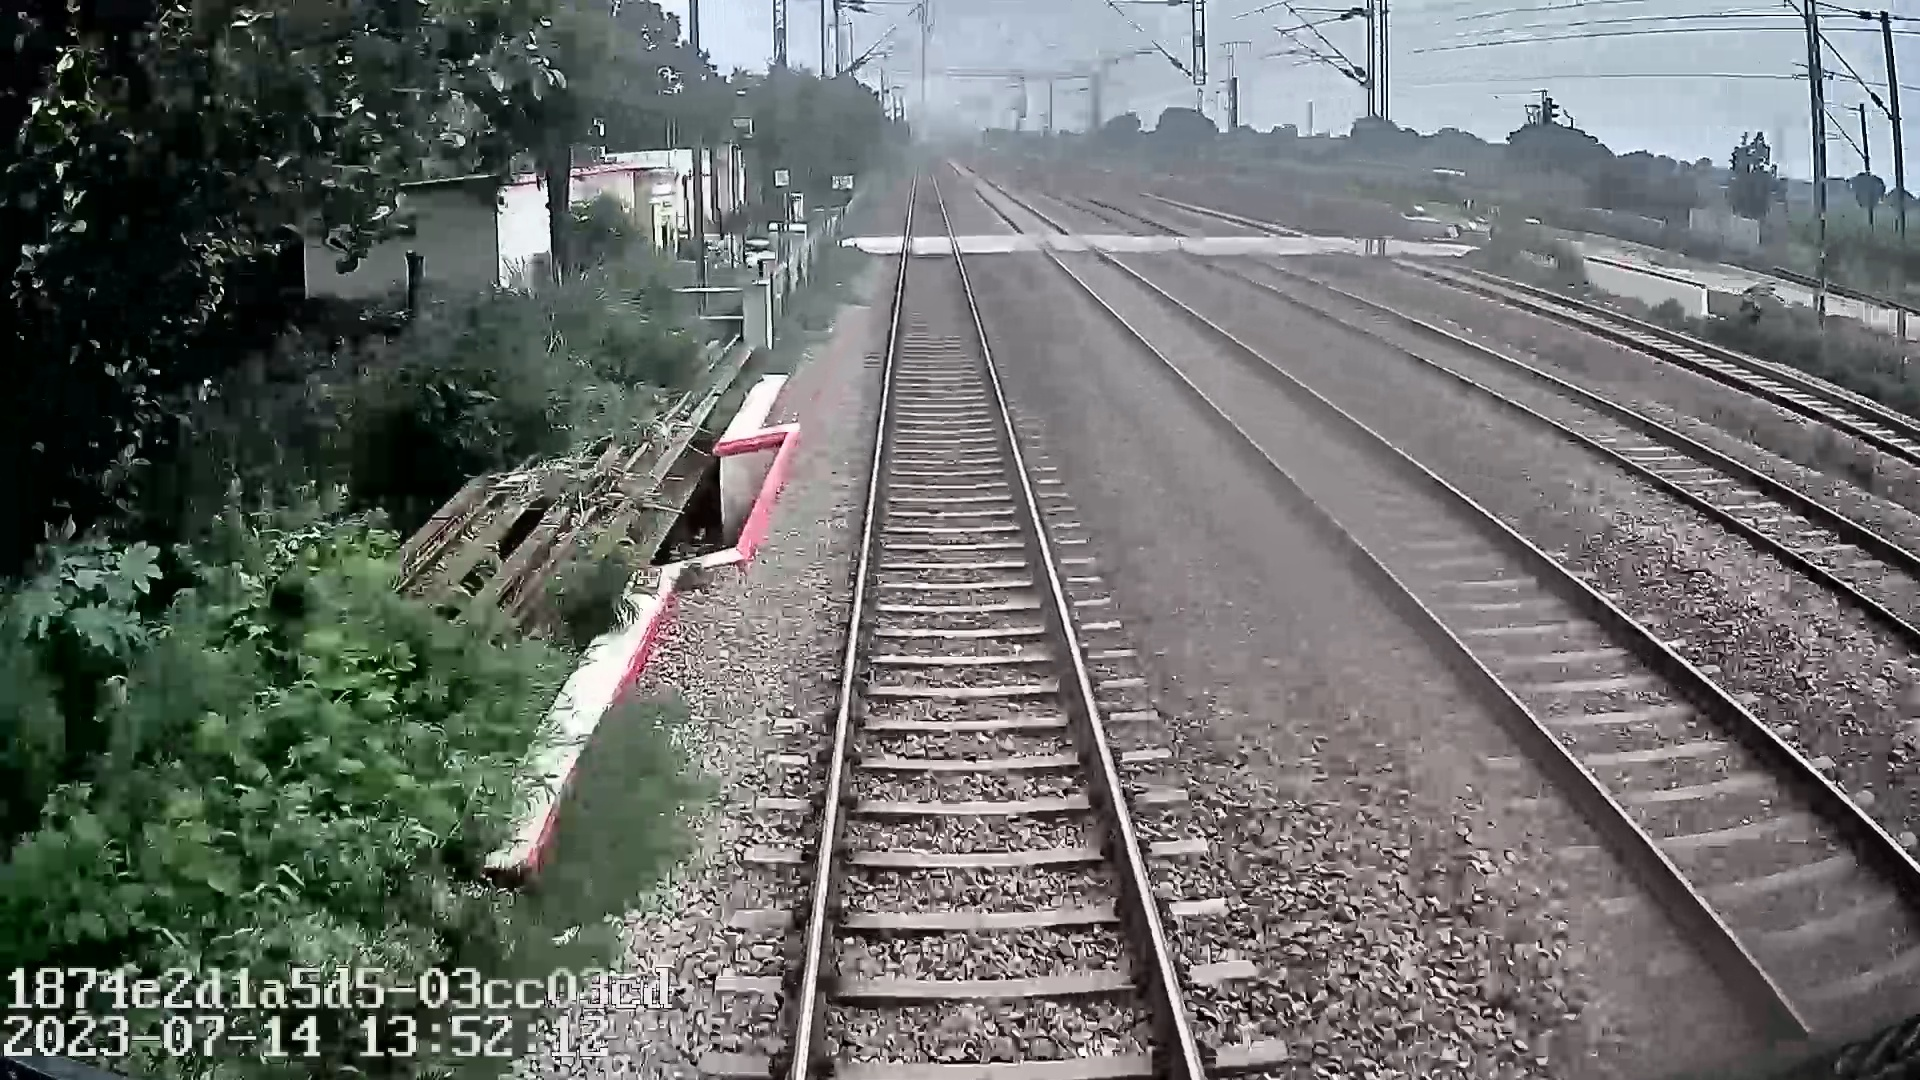track1: (800, 169, 1195, 1068)
track2: (975, 187, 1917, 1007)
track3: (1075, 199, 1913, 608)
track4: (1393, 258, 1919, 451)
